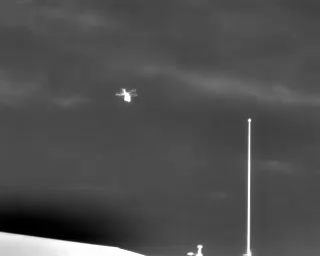HELICOPTER: (111, 82, 142, 109)
